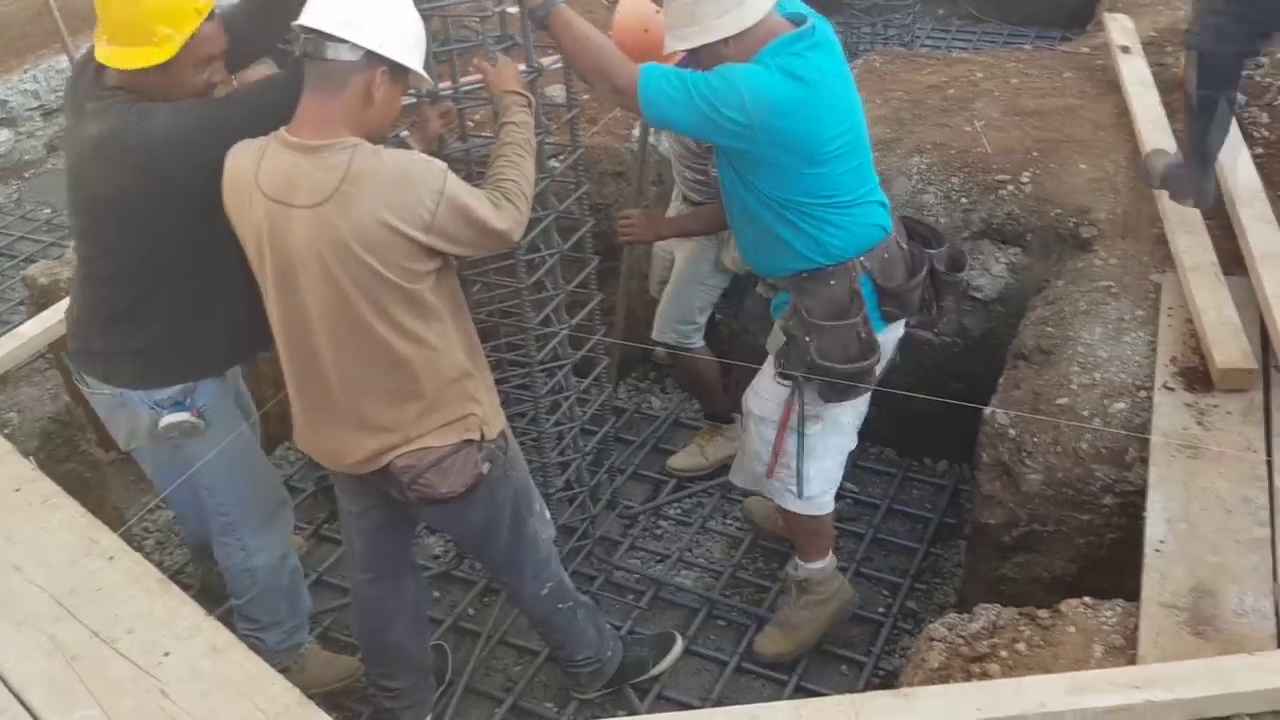helmet: (288, 2, 436, 90), (88, 0, 216, 73)
helmet-off: (663, 0, 811, 75)
helmet-on: (277, 0, 426, 147), (74, 0, 240, 106), (606, 0, 674, 68)
person: (222, 0, 646, 708), (57, 5, 372, 705), (593, 0, 916, 675), (607, 15, 751, 470), (1119, 3, 1278, 282)
